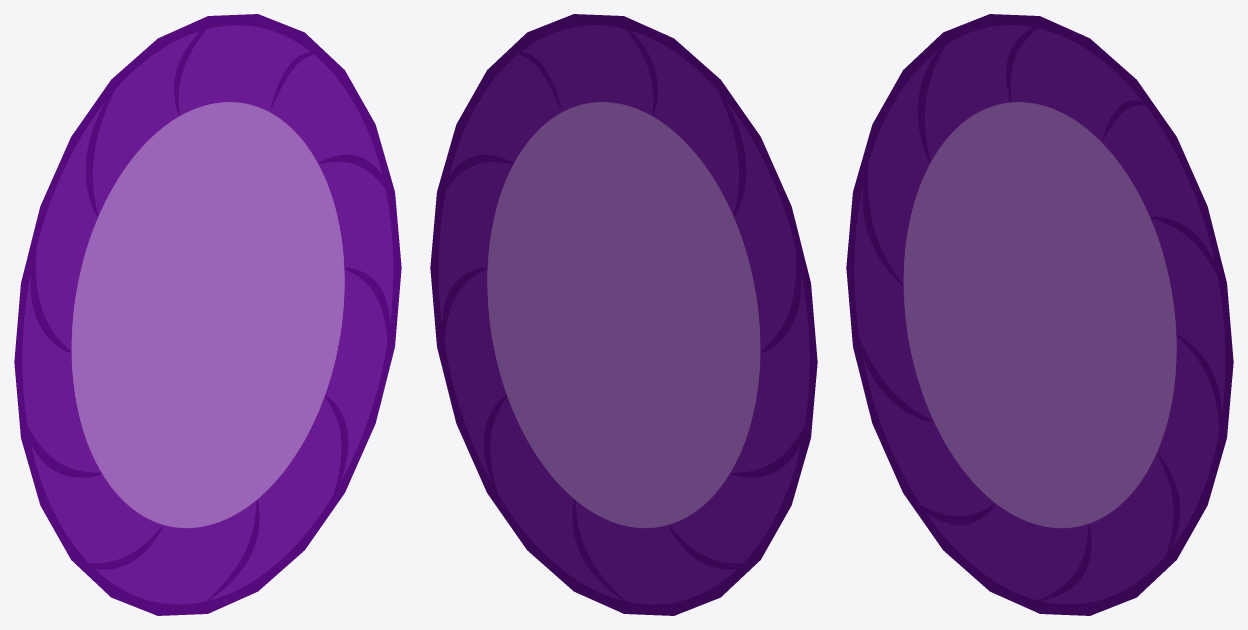
Rendered from Portal.fbx.
3 renders of one model, left to right at view 1: azimuth 30°, elevation 25°; view 2: azimuth 150°, elevation 25°; view 3: azimuth 330°, elevation 25°, orthographic.
Visible parts, largest first — view 1: Portal; view 2: Portal; view 3: Portal.
Part boxes in pixels (<box>): Portal: <box>14,14,401,615</box>; Portal: <box>430,14,817,615</box>; Portal: <box>846,14,1233,615</box>.
Bounding box in the file's own units: 1.36 × 2 × 0.
